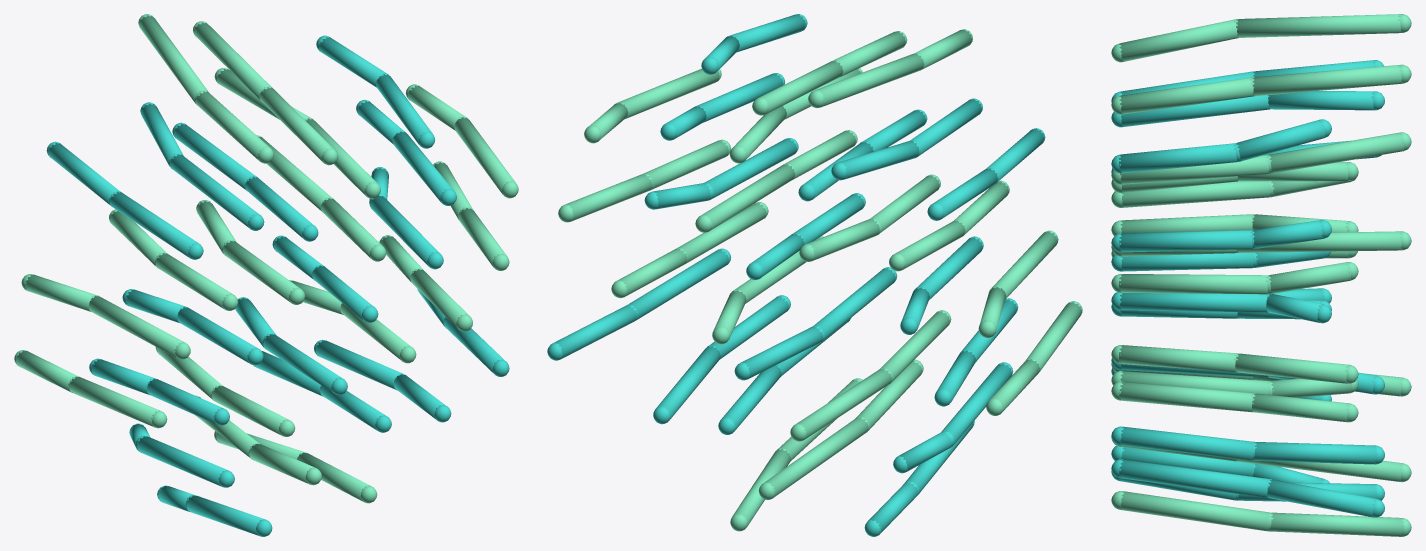
The model's file is CatnipPlanterMoving_Premium.fbx.
3 views of the same model, side by side, from view 1: azimuth 30°, elevation 25°; view 2: azimuth 150°, elevation 25°; view 3: azimuth 270°, elevation 25° (orthographic). The views are drawn at different scales.
Parts seen in each view (by area): view 1: CatnipPlanter_Moving; view 2: CatnipPlanter_Moving; view 3: CatnipPlanter_Moving.
Part boxes in pixels (box(x1,y1,x2,y2)): CatnipPlanter_Moving: box(14, 14, 518, 536); CatnipPlanter_Moving: box(547, 14, 1082, 536); CatnipPlanter_Moving: box(1111, 14, 1411, 536).
Size of the model in its own units: 0.3874 by 0.3908 by 0.2164.
